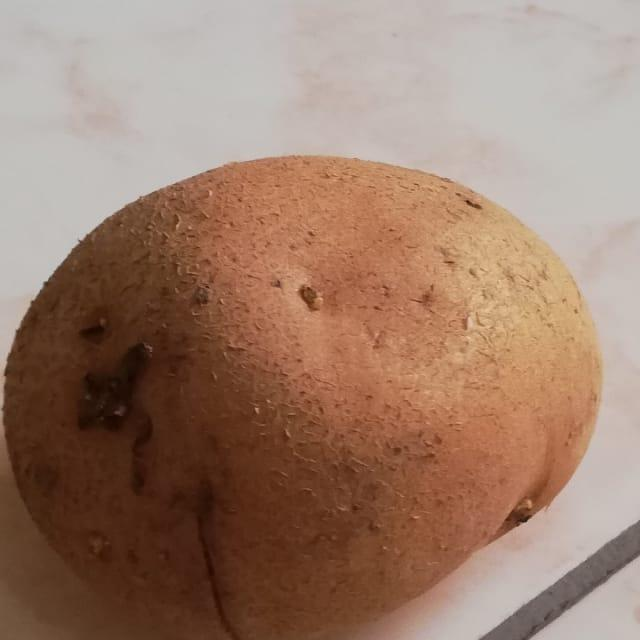potato: (0, 139, 618, 640)
